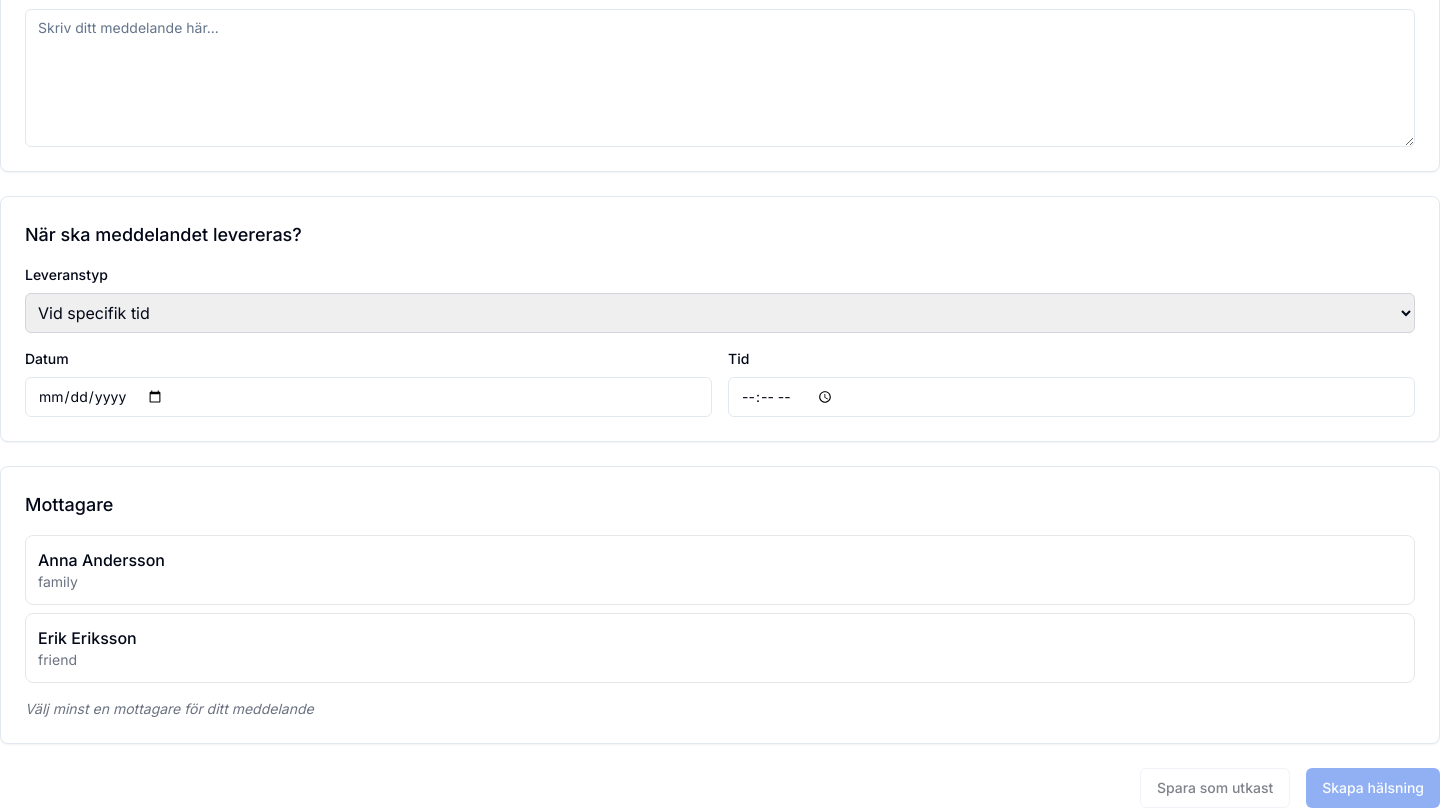
Test: Legacy System Integration › LegacyContentCreator Component › should allow selecting recipients
The image size is (1452, 808).
(page scrolled)
// Click on first contact
What coordinates should you click on to do the following:
click the text "Anna Andersson"
I would click on:
 (101, 560)
Its box is x1=38 y1=548 x2=165 y2=572.
(page scrolled)
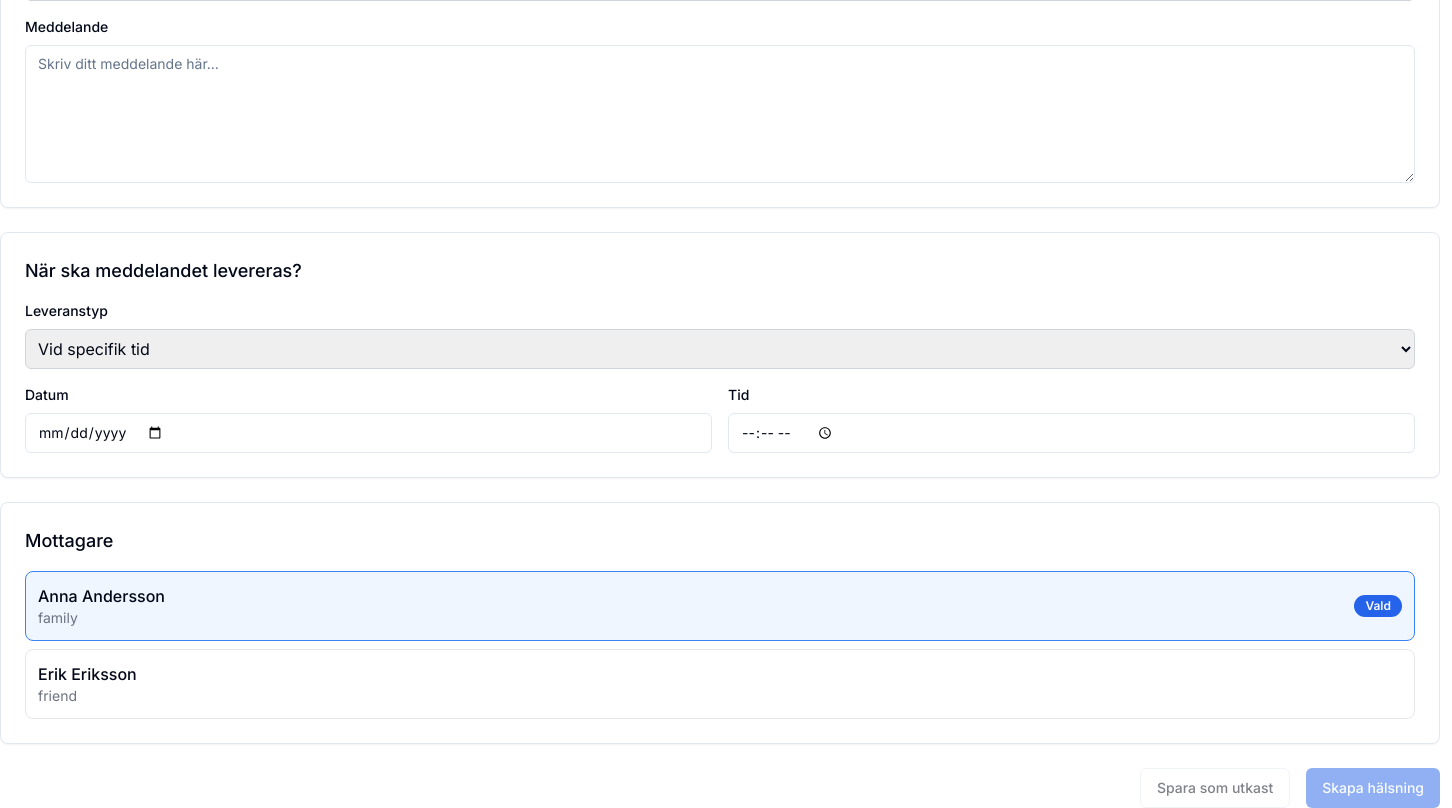
Expected: the text "Vald" is shown, x1=1354 y1=595 x2=1402 y2=617
